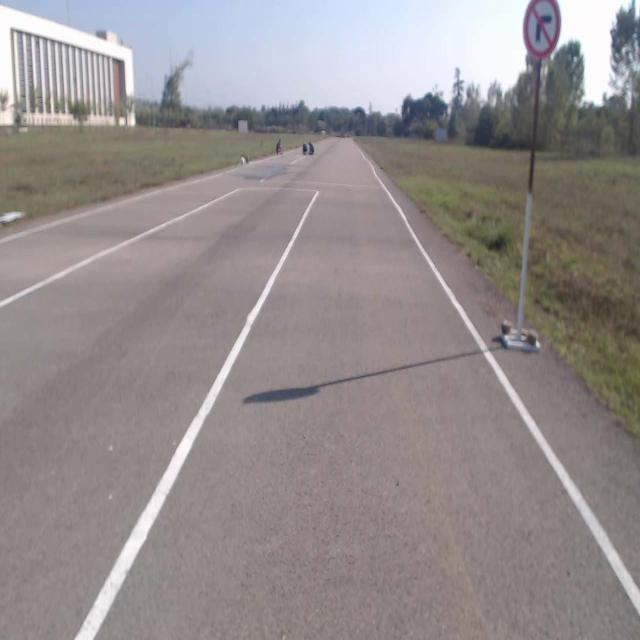sagadonulmez: (522, 1, 562, 59)
